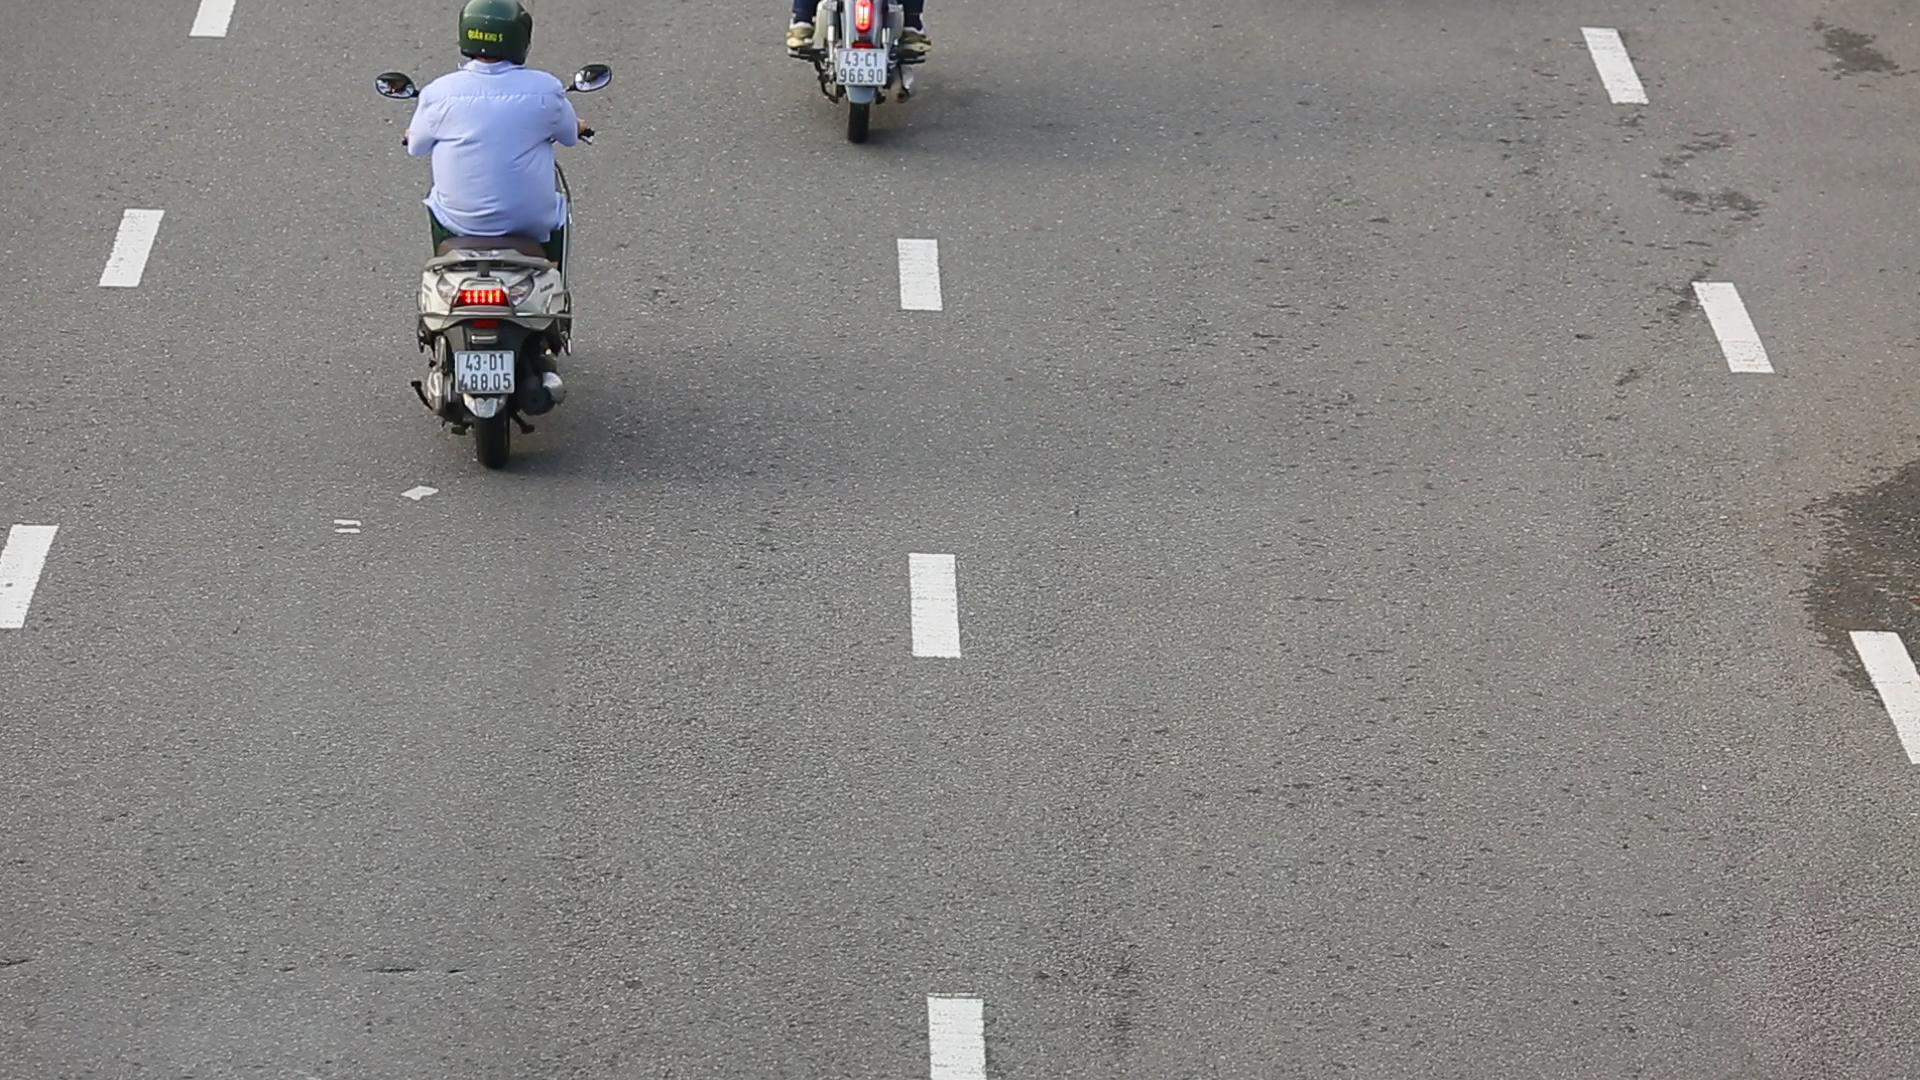motobike: (349, 4, 654, 483)
